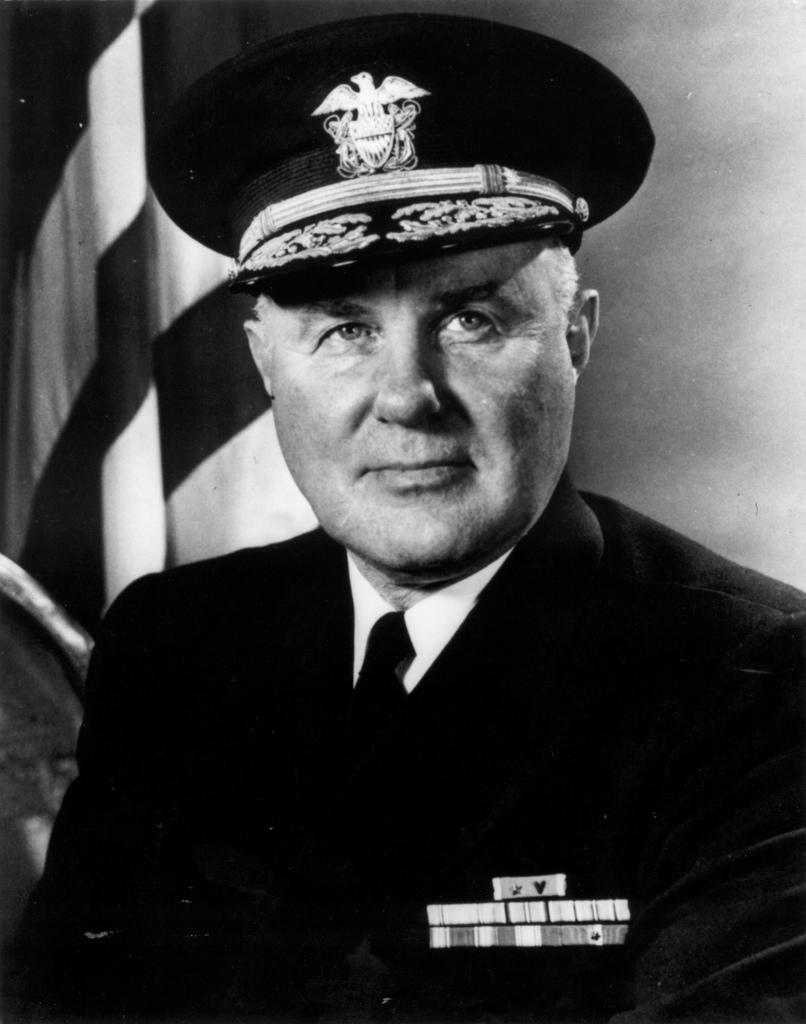Hat: (149, 16, 662, 296)
